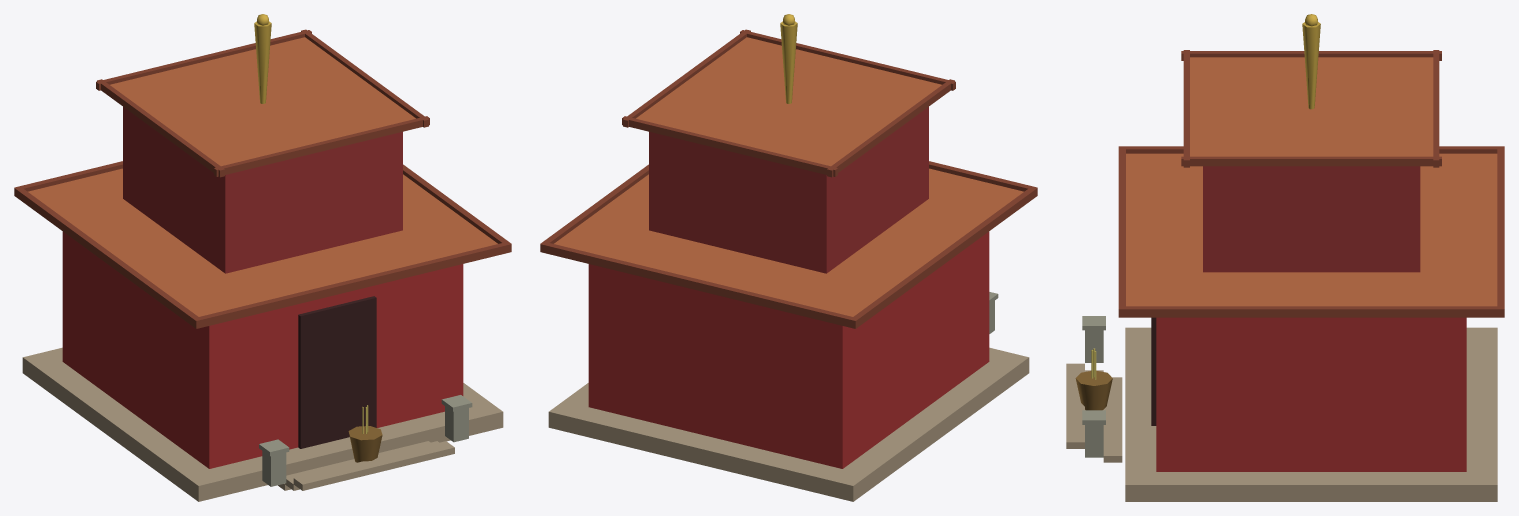
The model's file is pagoda.glb.
The picture shows the model from 3 angles, left to right: view 1: azimuth 30°, elevation 25°; view 2: azimuth 150°, elevation 25°; view 3: azimuth 270°, elevation 25°; orthographic projection. The views are drawn at different scales.
Parts seen in each view (by area): view 1: Mesh_MainHall, Mesh_UpperTier, Mesh_Tier1Roof, Mesh_Tier2Roof, Mesh_BasePlatform, Mesh_EntranceDoor, Mesh_Tier1EdgeFront, Mesh_Tier1EdgeLeft, Mesh_Step3, Mesh_Tier2EdgeFront, Mesh_Tier2EdgeLeft, Mesh_Tier2EdgeBack (+7 smaller); view 2: Mesh_MainHall, Mesh_UpperTier, Mesh_Tier1Roof, Mesh_Tier2Roof, Mesh_BasePlatform, Mesh_Tier1EdgeBack, Mesh_Tier1EdgeLeft, Mesh_Tier2EdgeBack, Mesh_Tier2EdgeLeft, Mesh_Tier2EdgeFront, Mesh_Tier2EdgeRight, Mesh_Tier1EdgeRight (+2 smaller); view 3: Mesh_MainHall, Mesh_Tier1Roof, Mesh_Tier2Roof, Mesh_UpperTier, Mesh_BasePlatform, Mesh_Tier1EdgeRight, Mesh_Tier2EdgeRight, Mesh_Tier2EdgeLeft, Mesh_Step1, Mesh_Step3, Mesh_Tier1EdgeFront, Mesh_Tier1EdgeBack (+8 smaller).
Part boxes in pixels (<box>): Mesh_MainHall: <box>62,231,463,468</box>; Mesh_UpperTier: <box>123,107,402,273</box>; Mesh_Tier1Roof: <box>28,168,497,316</box>; Mesh_Tier2Roof: <box>110,37,415,166</box>; Mesh_BasePlatform: <box>22,347,503,501</box>; Mesh_EntranceDoor: <box>298,296,376,448</box>; Mesh_Tier1EdgeFront: <box>193,241,511,328</box>; Mesh_Tier1EdgeLeft: <box>14,186,200,328</box>; Mesh_Step3: <box>293,441,454,490</box>; Mesh_Tier2EdgeFront: <box>214,116,429,176</box>; Mesh_Tier2EdgeLeft: <box>97,79,224,177</box>; Mesh_Tier2EdgeBack: <box>96,30,311,90</box>; Mesh_MainHall: <box>588,231,989,468</box>; Mesh_UpperTier: <box>649,107,928,273</box>; Mesh_Tier1Roof: <box>554,168,1023,316</box>; Mesh_Tier2Roof: <box>636,37,941,166</box>; Mesh_BasePlatform: <box>548,347,1029,501</box>; Mesh_Tier1EdgeBack: <box>540,241,858,328</box>; Mesh_Tier1EdgeLeft: <box>850,186,1037,328</box>; Mesh_Tier2EdgeBack: <box>622,116,837,176</box>; Mesh_Tier2EdgeLeft: <box>827,79,954,177</box>; Mesh_Tier2EdgeFront: <box>740,30,955,90</box>; Mesh_Tier2EdgeRight: <box>623,29,750,127</box>; Mesh_Tier1EdgeRight: <box>540,164,648,243</box>; Mesh_MainHall: <box>1156,317,1466,471</box>; Mesh_Tier1Roof: <box>1126,153,1497,306</box>; Mesh_Tier2Roof: <box>1190,57,1433,156</box>; Mesh_UpperTier: <box>1203,166,1420,272</box>; Mesh_BasePlatform: <box>1125,327,1497,501</box>; Mesh_Tier1EdgeRight: <box>1119,306,1503,317</box>; Mesh_Tier2EdgeRight: <box>1181,156,1441,166</box>; Mesh_Tier2EdgeLeft: <box>1181,51,1441,60</box>; Mesh_Step1: <box>1103,377,1122,462</box>; Mesh_Step3: <box>1066,363,1084,448</box>; Mesh_Tier1EdgeFront: <box>1118,146,1125,317</box>; Mesh_Tier1EdgeBack: <box>1497,146,1504,317</box>.
Bounding box in the file's own units: 6.22 × 7.27 × 7.06.
